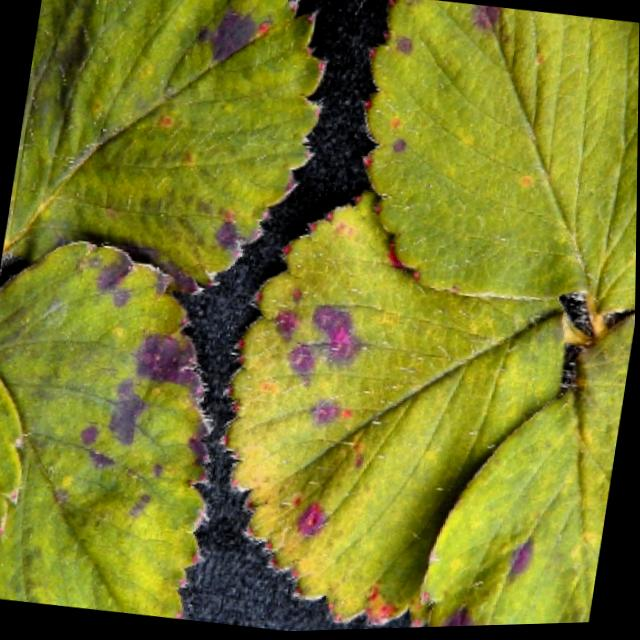Leaf Spot: (218, 190, 570, 630), (2, 0, 329, 299), (361, 0, 640, 322), (0, 240, 216, 621), (421, 316, 636, 630)
